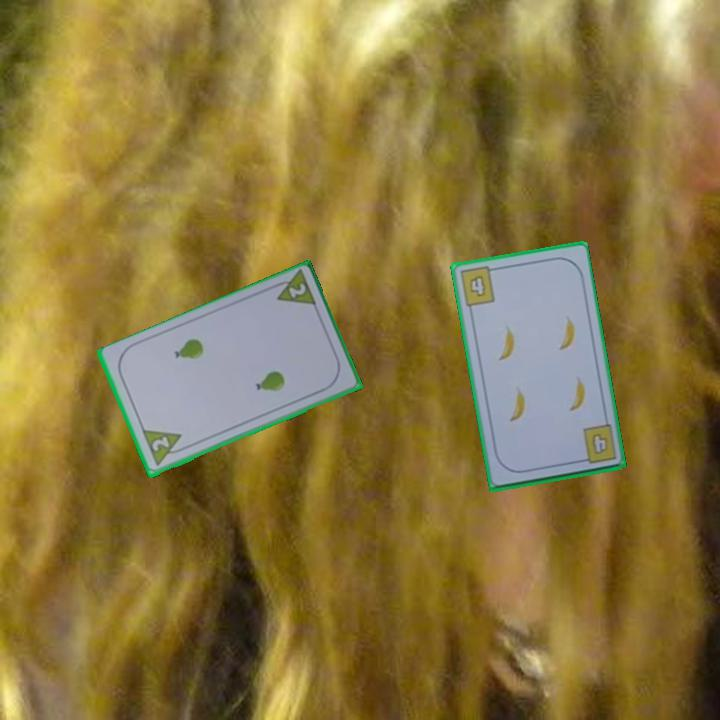2p: (267, 268, 320, 310), (148, 433, 172, 455)
4b: (456, 263, 500, 309), (575, 421, 619, 467)
